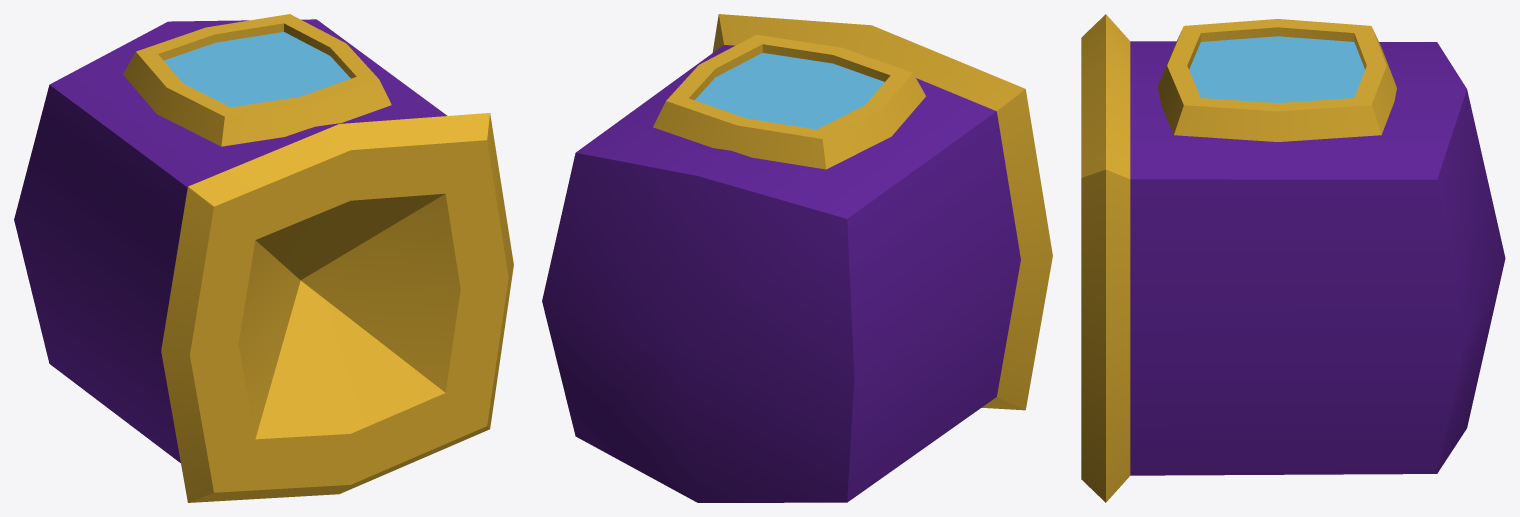
Rendered from Head 08.FBX.
The picture shows the model from 3 angles, left to right: view 1: azimuth 30°, elevation 25°; view 2: azimuth 150°, elevation 25°; view 3: azimuth 270°, elevation 25°; orthographic projection. The views are drawn at different scales.
Visible parts, largest first — view 1: Head 08; view 2: Head 08; view 3: Head 08.
Boxes of the visible parts, x1,y1,x2,y2 form: Head 08: [14, 14, 513, 502]; Head 08: [542, 14, 1052, 502]; Head 08: [1081, 14, 1505, 502].
Size of the model in its own units: 80.03 by 80.27 by 79.03.
1 material, 1 textured.
